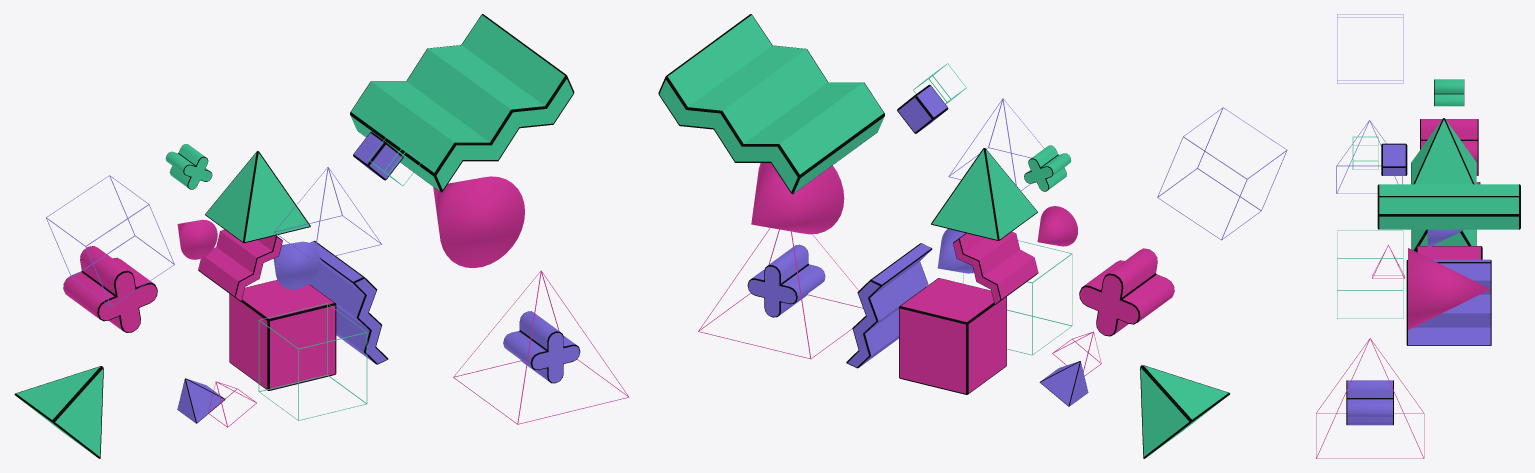
File: background002.gltf
3 views of the same model, side by side, from view 1: azimuth 30°, elevation 25°; view 2: azimuth 150°, elevation 25°; view 3: azimuth 270°, elevation 25° (orthographic). The views are drawn at different scales.
Parts seen in each view (by area): view 1: wiggleRight.001, cubeCenter, coneRight, pyramidCenter, plusMiddleLeft, pyramidLowerLeft, wiggleRight, wiggleCenter, plusLowerRight, coneCenter, plusUpperLeft, cubeRight (+6 smaller); view 2: wiggleRight.001, cubeCenter, pyramidCenter, plusMiddleLeft, coneRight, wiggleRight, pyramidLowerLeft, wiggleCenter, plusLowerRight, plusUpperLeft, cubeRight, coneLeft (+4 smaller); view 3: wiggleRight.001, wiggleRight, coneRight, pyramidCenter, plusLowerRight, plusMiddleLeft, cubeRight, cubeCenter, plusUpperLeft, pyramidLowerLeft, pyramidWireframeRight, cubeCenterWireframe (+4 smaller).
Boxes of the visible parts, x1,y1,x2,y2 form: wiggleRight.001: (350,14,574,192); cubeCenter: (229,280,336,390); coneRight: (433,176,524,267); pyramidCenter: (205,151,310,243); plusMiddleLeft: (63,246,157,332); pyramidLowerLeft: (14,366,103,458); wiggleRight: (309,240,388,364); wiggleCenter: (198,229,282,301); plusLowerRight: (503,311,580,383); coneCenter: (273,241,320,289); plusUpperLeft: (165,144,212,189); cubeRight: (353,132,403,180); wiggleRight.001: (658,14,884,194); cubeCenter: (899,278,1006,394); pyramidCenter: (931,148,1037,240); plusMiddleLeft: (1079,248,1174,336); coneRight: (751,163,844,234); wiggleRight: (846,243,932,368); pyramidLowerLeft: (1140,365,1230,458); wiggleCenter: (953,231,1038,304); plusLowerRight: (747,244,825,317); plusUpperLeft: (1024,145,1071,191); cubeRight: (897,84,948,133); coneLeft: (1037,206,1077,246); wiggleRight.001: (1377,184,1520,229); wiggleRight: (1406,259,1491,345); coneRight: (1408,248,1490,329); pyramidCenter: (1411,118,1476,184); plusLowerRight: (1346,380,1393,425); plusMiddleLeft: (1420,119,1478,175); cubeRight: (1381,143,1407,175); cubeCenter: (1416,246,1482,259); plusUpperLeft: (1434,79,1464,106); pyramidLowerLeft: (1411,229,1476,251); pyramidWireframeRight: (1316,338,1424,458); cubeCenterWireframe: (1337,230,1403,318).
Bounding box in the file's own units: 530 × 287 × 211.
